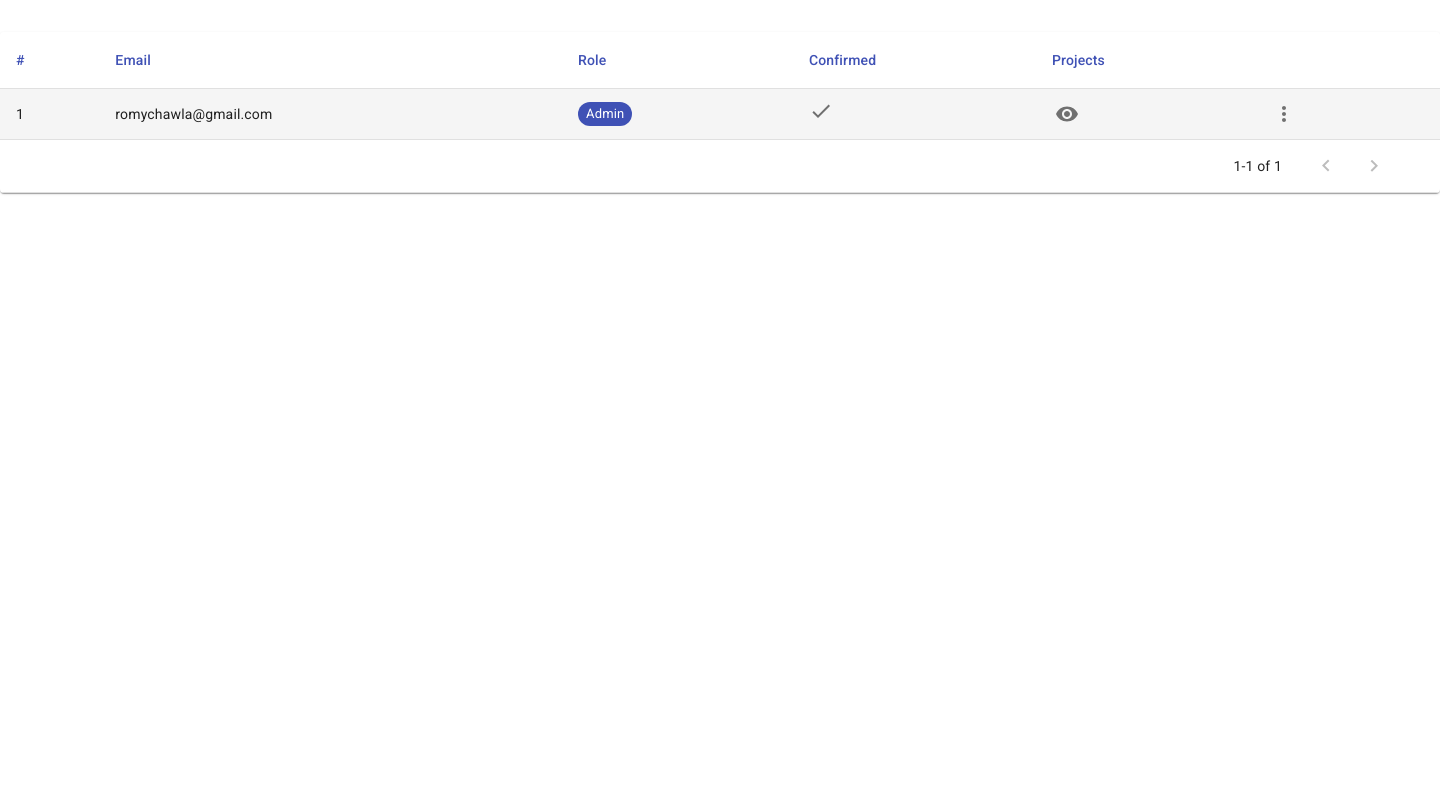
Test: Invited User TableGraphql Calls and data listing › user peoject dialog test
Click the button with test id "show-user-projects" at (1067, 114), box left=1052, top=99, right=1082, bottom=129
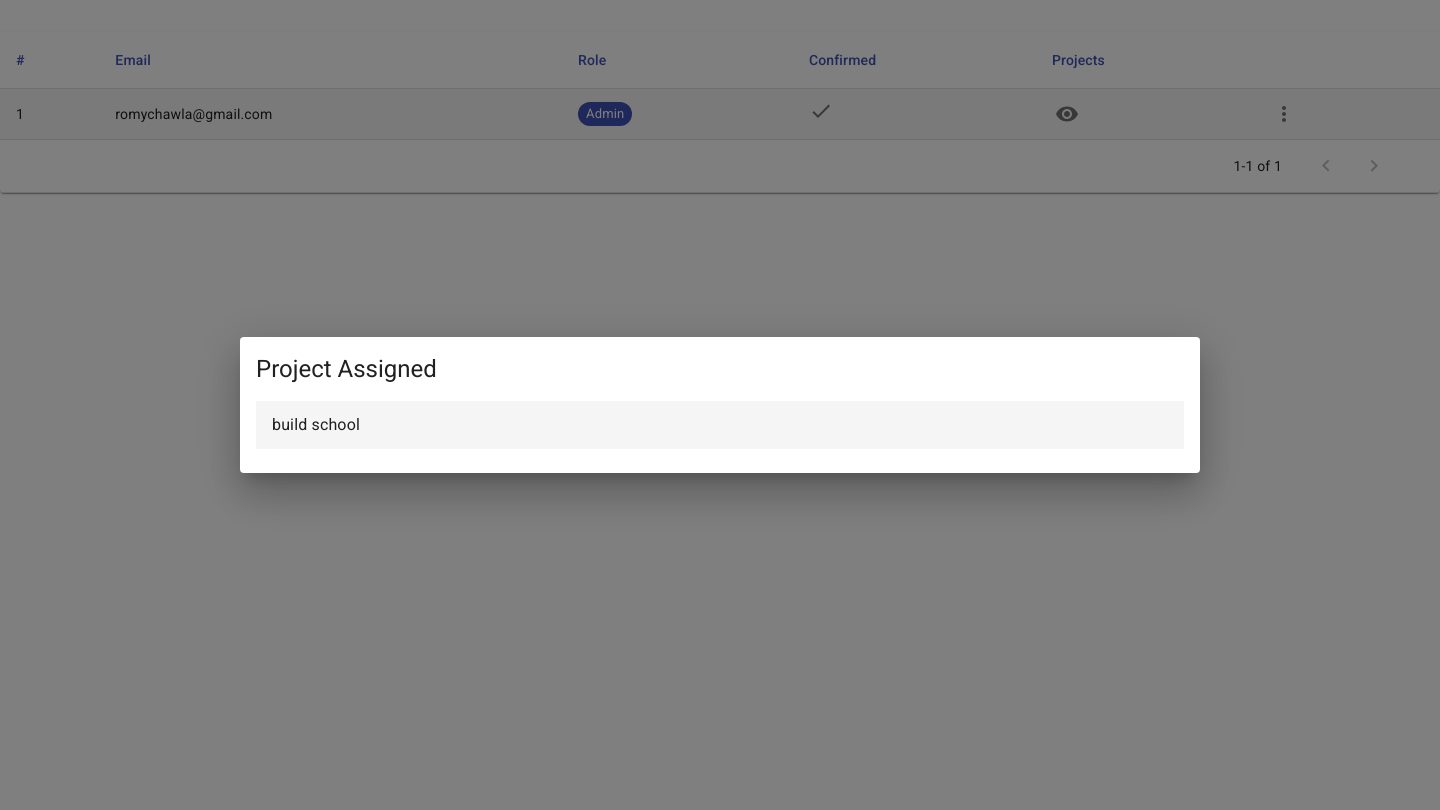
Result: the element with test id "project-dialog" is shown
Result: the text "build school" is shown at left=272, top=415, right=360, bottom=434
